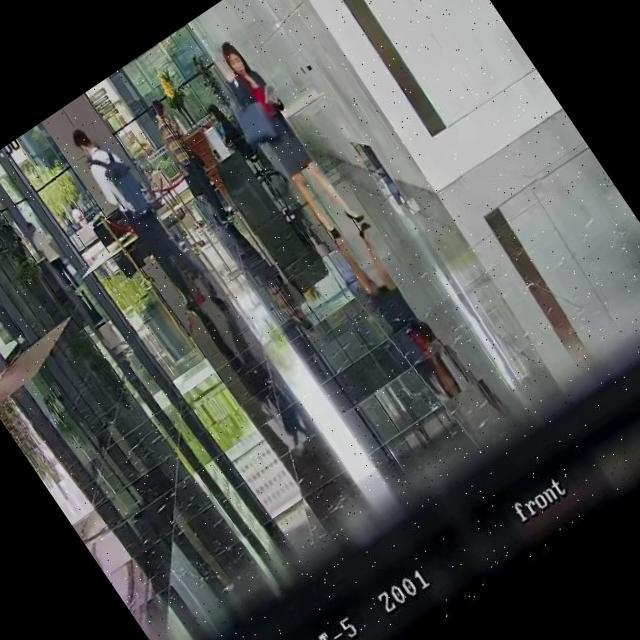person: (203, 30, 374, 253), (64, 110, 228, 324), (138, 94, 241, 230), (21, 215, 87, 298), (203, 98, 258, 166), (66, 200, 90, 228), (59, 209, 80, 235)
